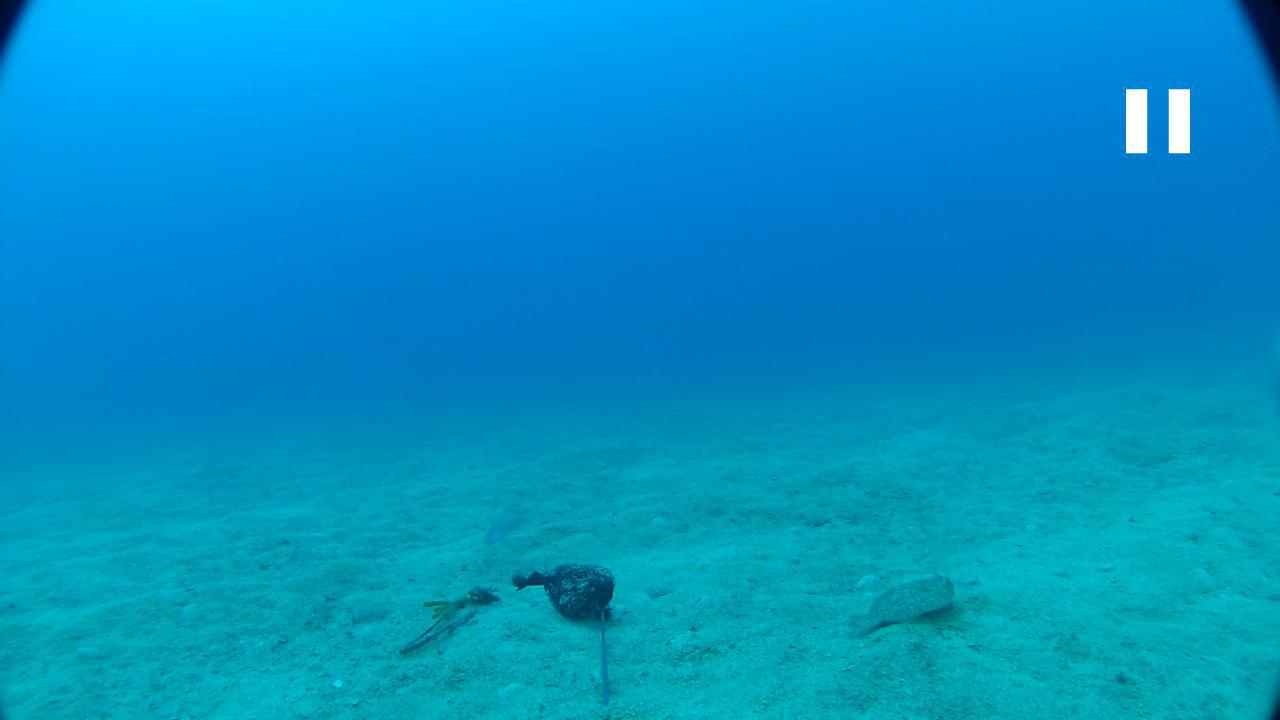bothus: (844, 564, 957, 640)
